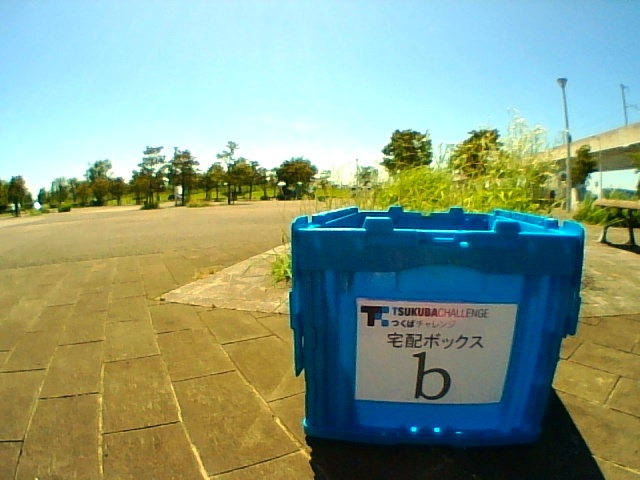blue_box: (312, 210, 536, 440)
tag_b: (356, 303, 501, 400)
